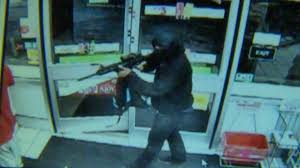rifle: (78, 51, 149, 80)
